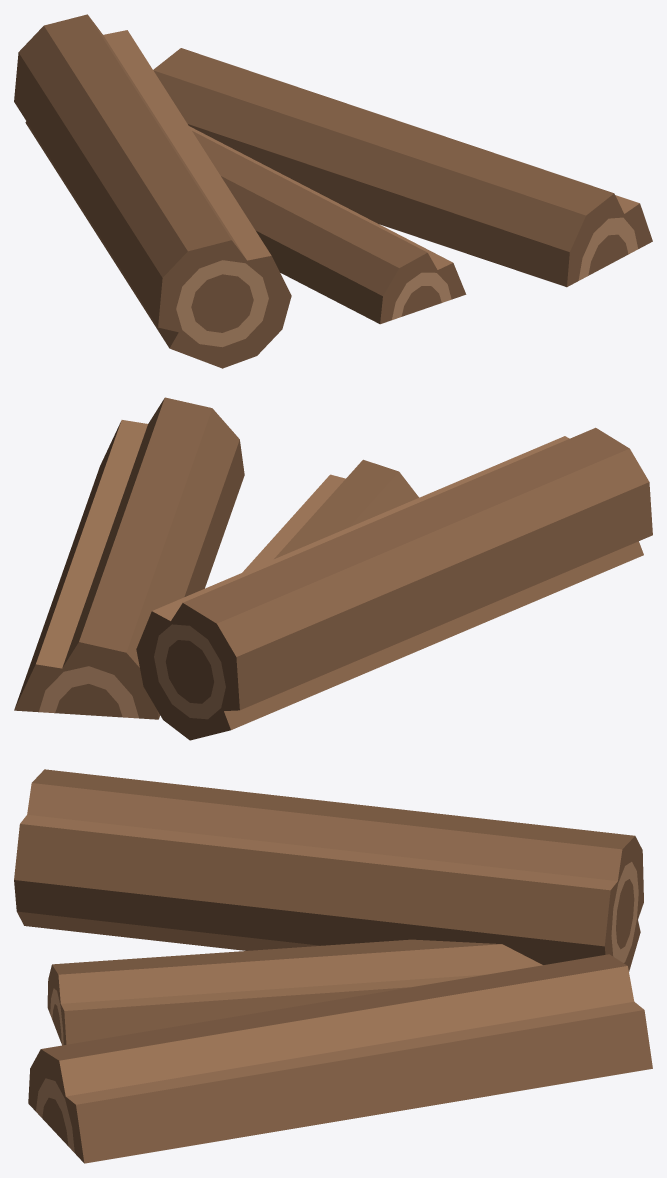
Rendered from bonfire_1.fbx.
The picture shows the model from 3 angles, top to bottom: view 1: azimuth 30°, elevation 25°; view 2: azimuth 150°, elevation 25°; view 3: azimuth 270°, elevation 25°; orthographic projection. The views are drawn at different scales.
Parts seen in each view (by area): view 1: bonfire_1; view 2: bonfire_1; view 3: bonfire_1.
Boxes of the visible parts, <box> form: bonfire_1: <box>14,14,652,368</box>; bonfire_1: <box>14,397,652,740</box>; bonfire_1: <box>14,769,652,1163</box>.
Bounding box in the file's own units: 48.46 × 11.59 × 47.7.
Materials: 1 (1 with a texture image).
